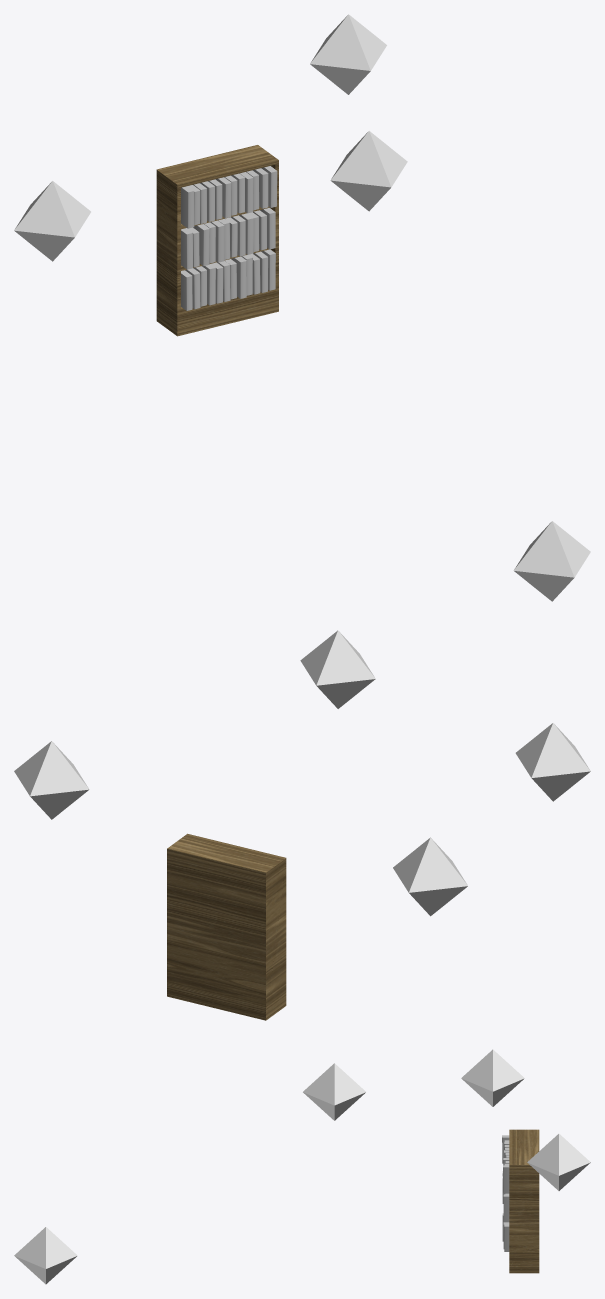
File: bookshelf.fbx
3 renders of one model, top to bottom at view 1: azimuth 30°, elevation 25°; view 2: azimuth 150°, elevation 25°; view 3: azimuth 270°, elevation 25°, orthographic. The views are drawn at different scales.
Parts seen in each view (by area): view 1: bookshelf, go_PlayerSpawn, l_point, l_point002, l_point001; view 2: bookshelf, l_point, l_point002, go_PlayerSpawn, l_point001; view 3: bookshelf, go_PlayerSpawn, l_point, l_point002, l_point001.
Boxes of the visible parts, <box> form: bookshelf: <box>156,145,278,336</box>; go_PlayerSpawn: <box>513,521,590,601</box>; l_point: <box>330,131,407,211</box>; l_point002: <box>310,14,386,94</box>; l_point001: <box>14,181,90,261</box>; bookshelf: <box>167,833,286,1020</box>; l_point: <box>300,630,375,708</box>; l_point002: <box>14,741,89,819</box>; go_PlayerSpawn: <box>515,723,590,801</box>; l_point001: <box>393,837,467,916</box>; bookshelf: <box>509,1129,539,1273</box>; go_PlayerSpawn: <box>14,1227,77,1284</box>; l_point: <box>303,1063,365,1120</box>; l_point002: <box>527,1134,590,1190</box>; l_point001: <box>461,1049,524,1106</box>.
Size of what is drawn, in the model's own units: 5.79 by 4.21 by 9.65.
